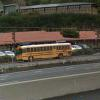Bus: (11, 42, 77, 64)
